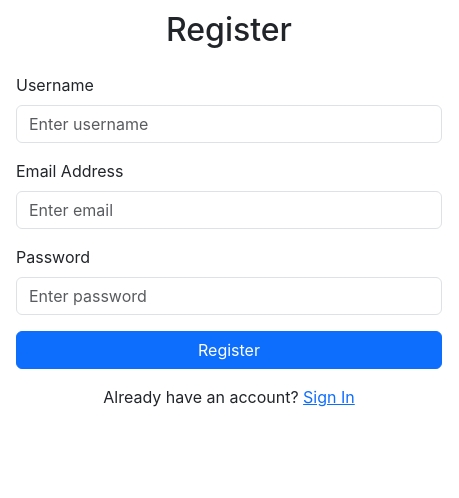
Test: RegisterScreen (real store) › shows validation error for short password
Type "user" into the field labelled "Username".
click(229, 124); type("user")  # box 16,105 -> 442,143
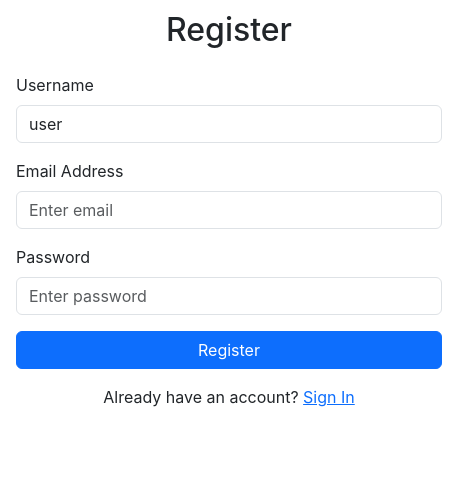
Type "user@example.com" into the field labelled "Email Address".
click(229, 210); type("user@example.com")  # box 16,191 -> 442,229
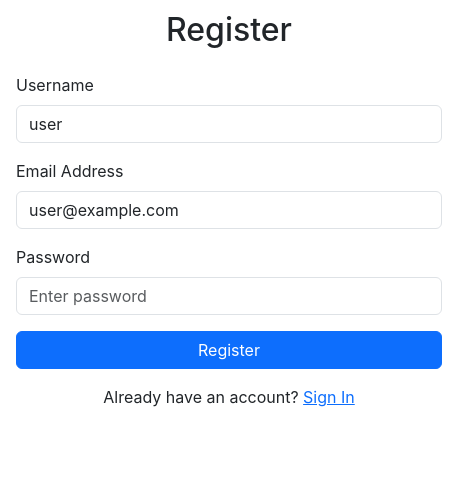
Type "123" into the password field labelled "Password".
click(229, 296); type("123")  # box 16,277 -> 442,315
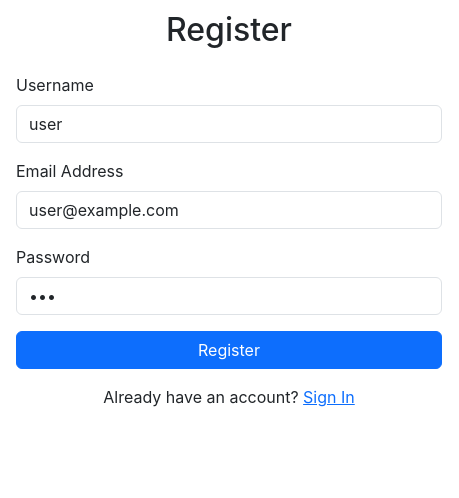
Click the button "Register".
click(229, 350)  # box 16,331 -> 442,369
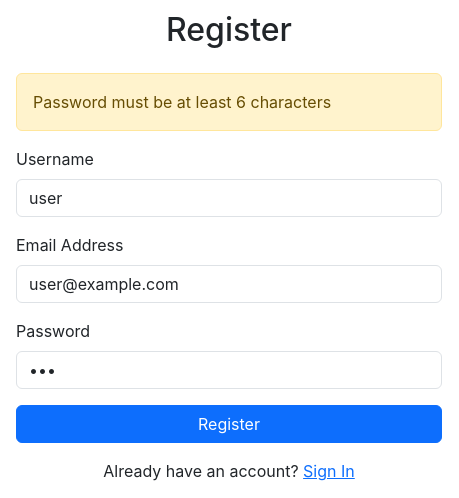
Expected: the text "Password must be at least 6 characters" is shown, 16,73 -> 442,131
